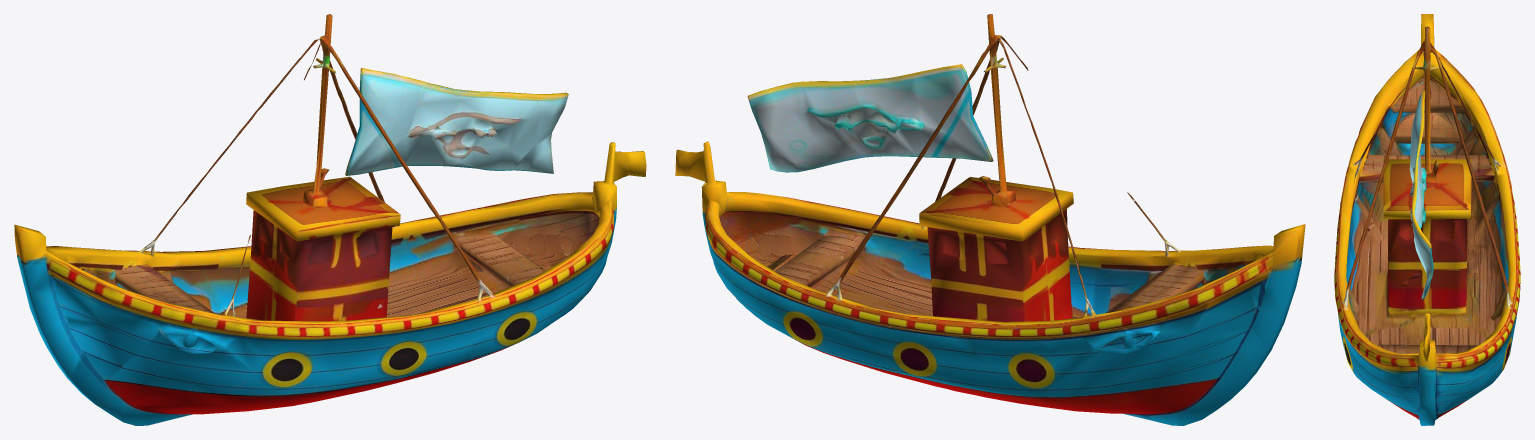
File: luzzu.glb
3 views of the same model, side by side, from view 1: azimuth 30°, elevation 25°; view 2: azimuth 150°, elevation 25°; view 3: azimuth 270°, elevation 25° (orthographic). The views are drawn at different scales.
Bounding box in the file's own units: 1.91 × 1.08 × 0.5771.
Materials: 1 (1 with a texture image).
